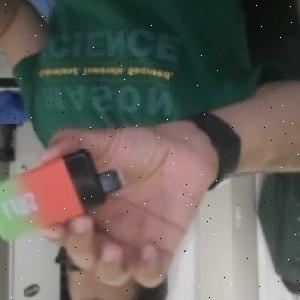Swift-E-Ciggirate: (0, 148, 127, 243)
